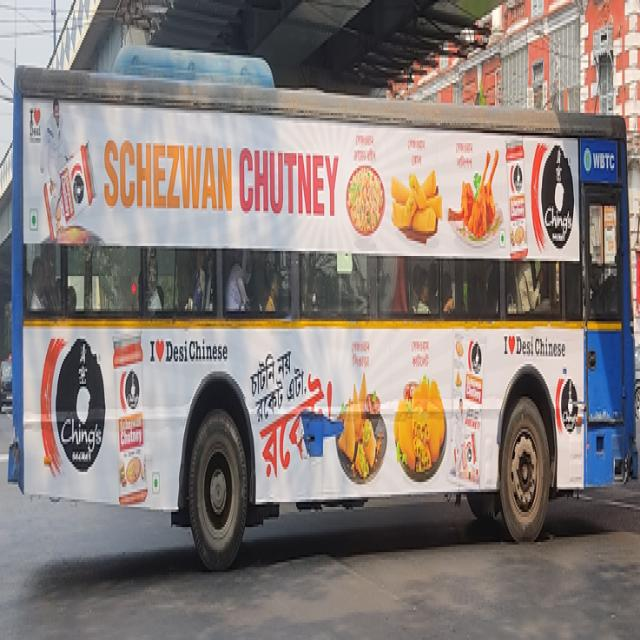bus: (9, 38, 638, 572)
